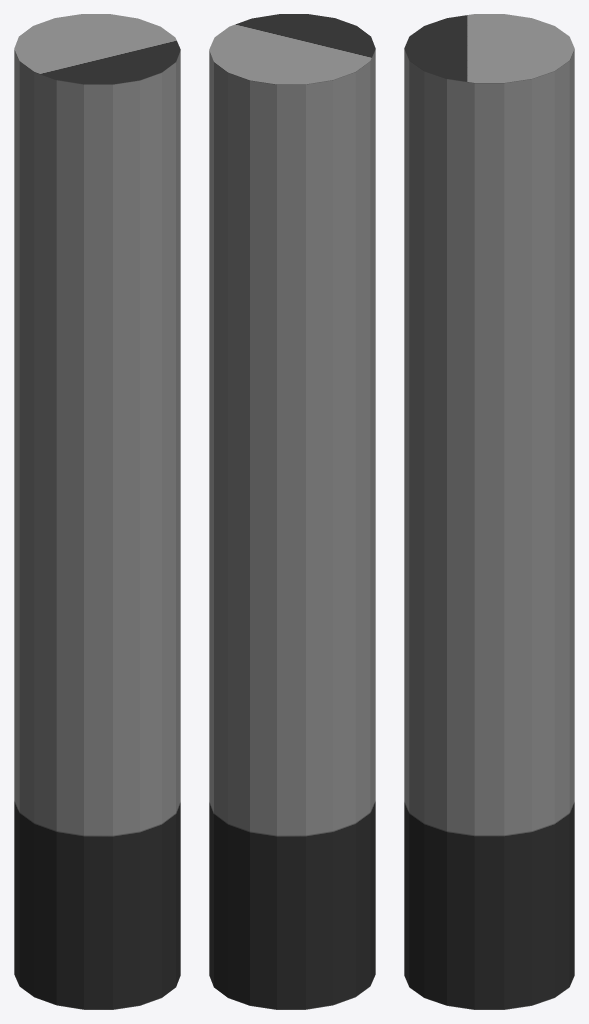
The model's file is Pillor_lod_1.fbx.
3 renders of one model, left to right at view 1: azimuth 30°, elevation 25°; view 2: azimuth 150°, elevation 25°; view 3: azimuth 270°, elevation 25°, orthographic.
Parts seen in each view (by area): view 1: Pillor_lod_1; view 2: Pillor_lod_1; view 3: Pillor_lod_1.
Boxes of the visible parts, x1,y1,x2,y2 form: Pillor_lod_1: (14, 14, 180, 1009); Pillor_lod_1: (209, 14, 375, 1009); Pillor_lod_1: (404, 14, 574, 1009).
Bounding box in the file's own units: 95.72 × 600 × 100.
1 material, 1 textured.
